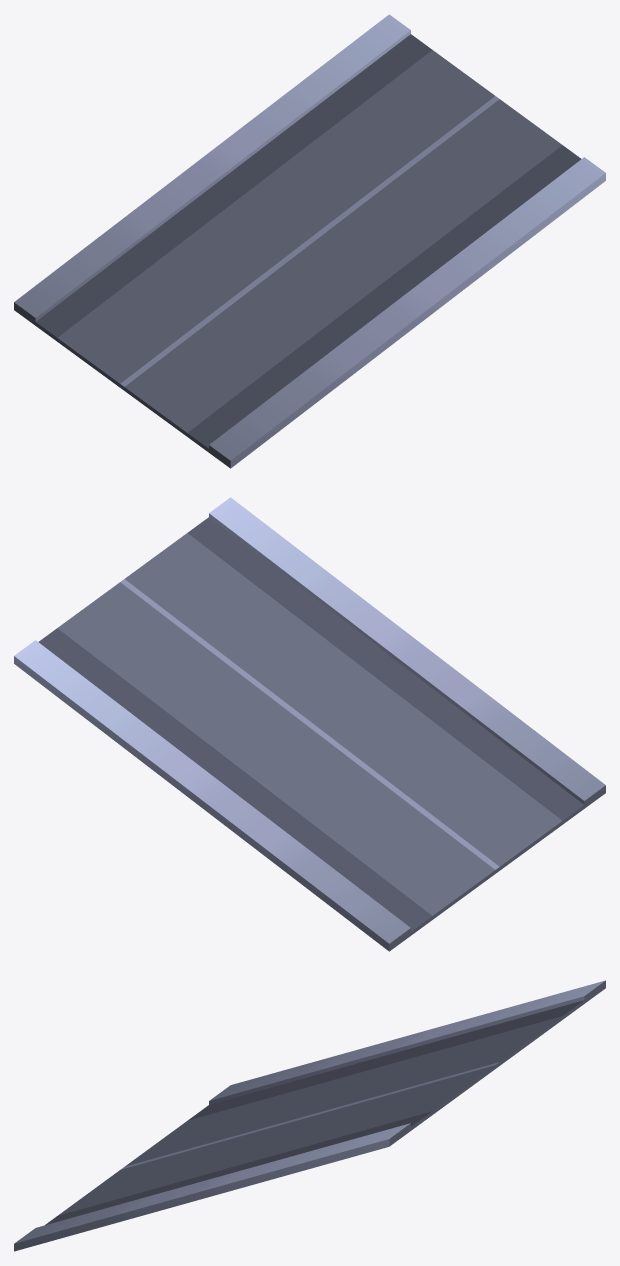
The model's file is road-slant-flat-high.glb.
The picture shows the model from 3 angles, top to bottom: view 1: azimuth 30°, elevation 25°; view 2: azimuth 150°, elevation 25°; view 3: azimuth 330°, elevation 25°; orthographic projection.
Visible parts, largest first — view 1: road-slant-flat-high; view 2: road-slant-flat-high; view 3: road-slant-flat-high.
Boxes of the visible parts, x1,y1,x2,y2 form: road-slant-flat-high: (14, 14, 605, 468); road-slant-flat-high: (14, 497, 605, 951); road-slant-flat-high: (14, 980, 605, 1251).
Bounding box in the file's own units: 1 × 0.52 × 1.
1 material, 1 textured.
